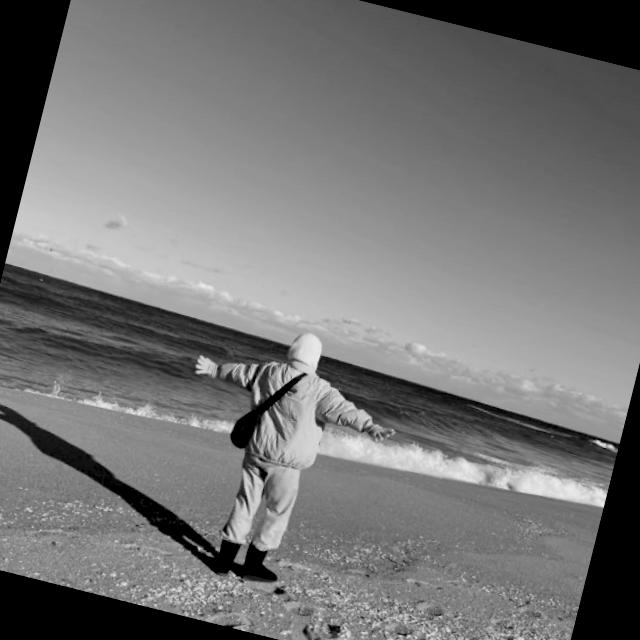padding: (199, 344, 380, 484)
trainingpants: (220, 451, 306, 555)
